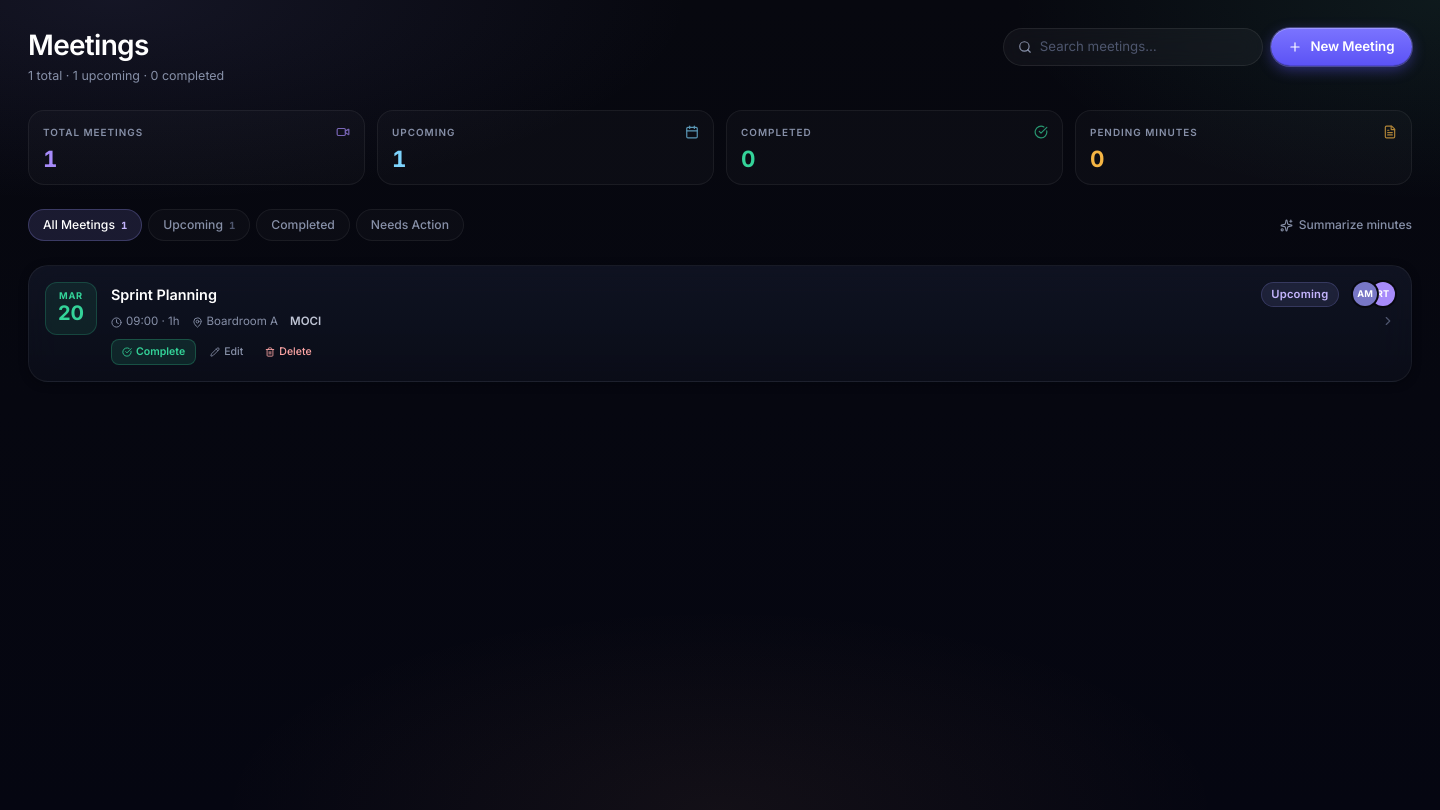
Meetings – Edit › shows Save Changes button in edit mode
What coordinates should you click on to do the following:
click the button titled "Edit meeting"
I would click on:
 (227, 352)
Its box is 202,340 -> 251,364.
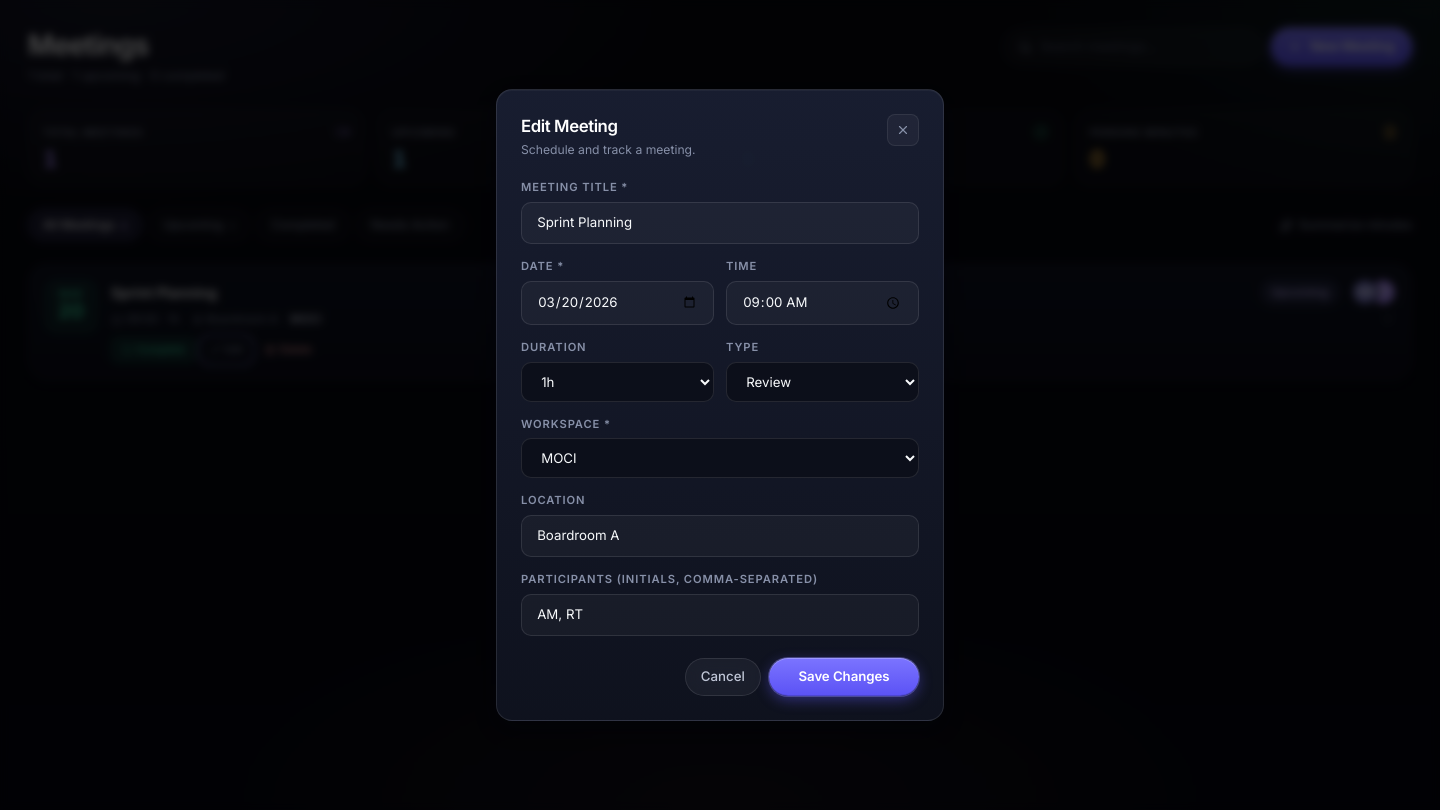
Expected: the button "Save Changes" is shown, 769,658 -> 919,696
